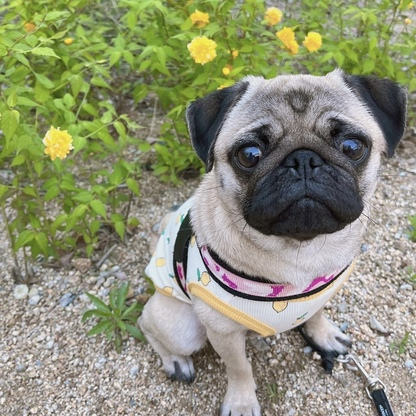Pug: (131, 65, 412, 416)
